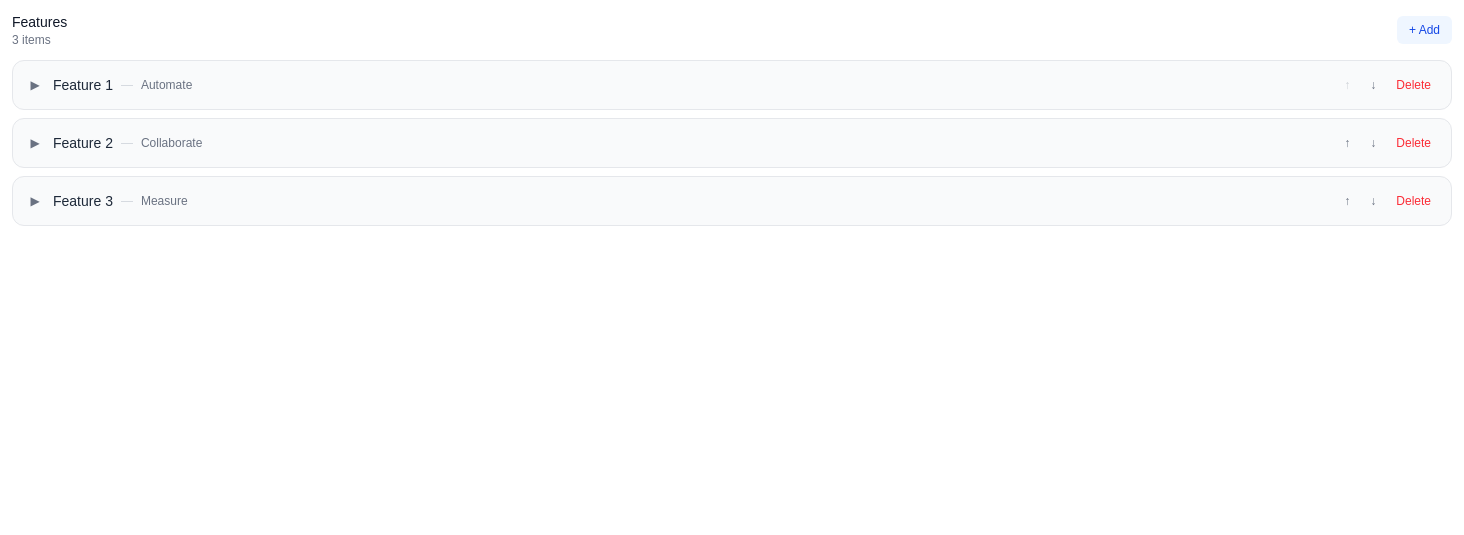
CollectionField › updates an item field through the editor store
Click the button with aria-label "Expand Feature 1" at (77, 85), box x1=25 y1=75 x2=1324 y2=95
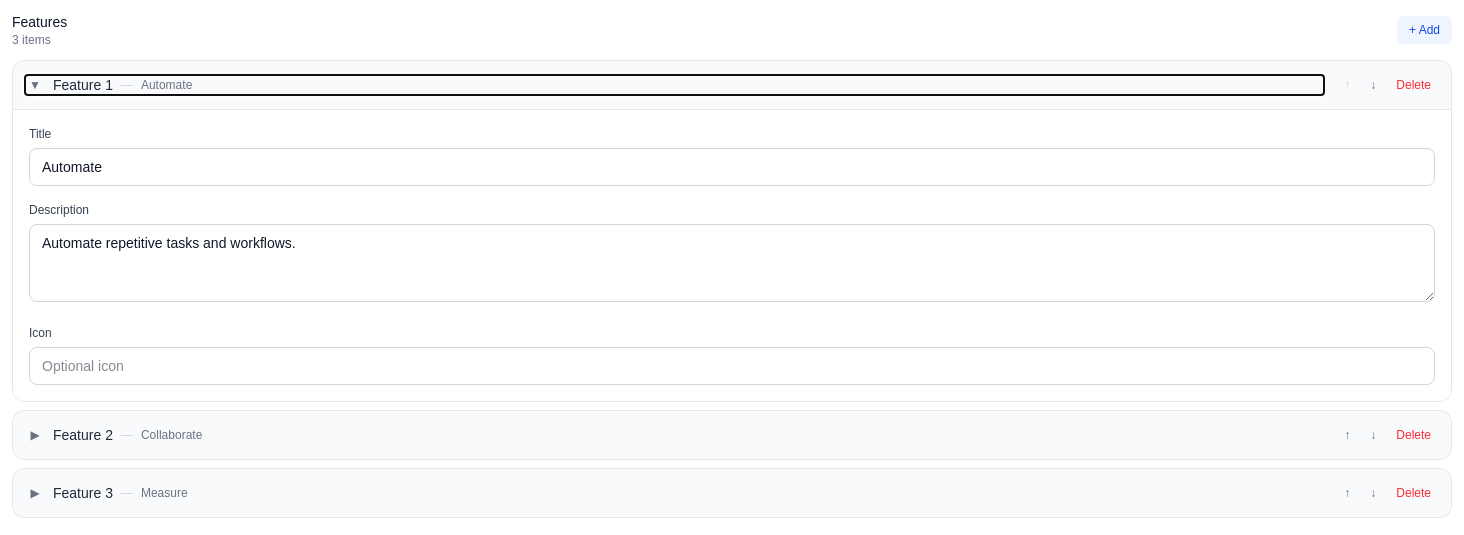
Replace the text in the field showing "Automate" with "Automate Everything" at (732, 167), box x1=29 y1=148 x2=1435 y2=186
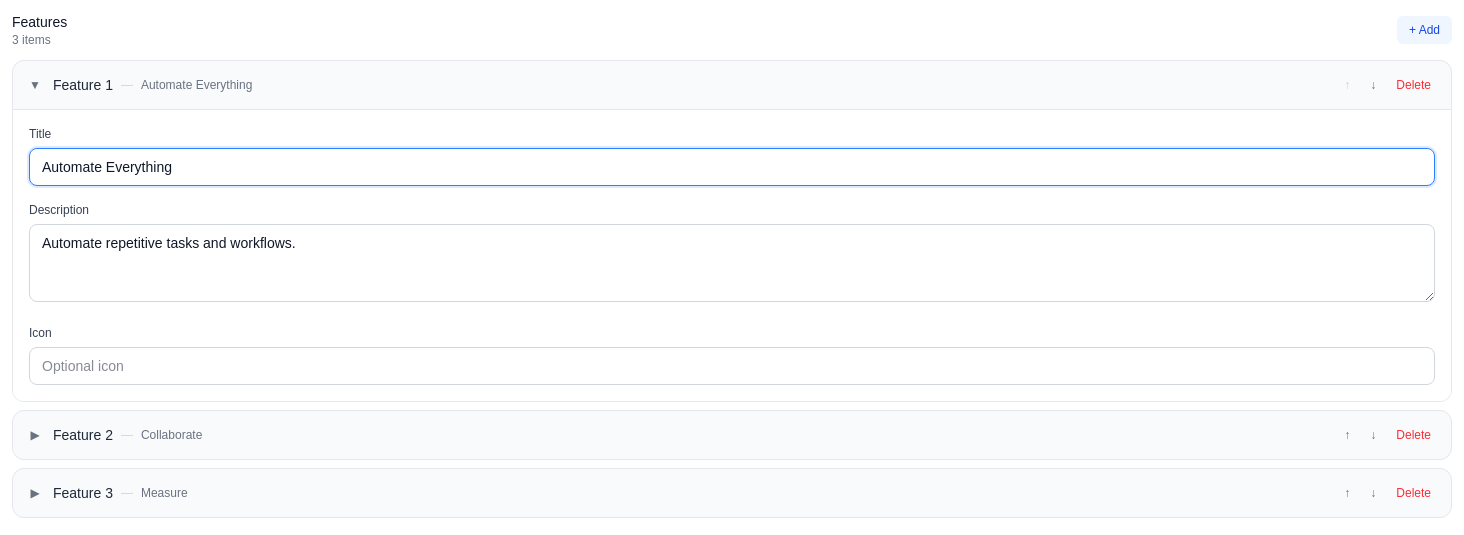
Expected: the text "Automate Everything" is shown, x1=141 y1=77 x2=252 y2=93
